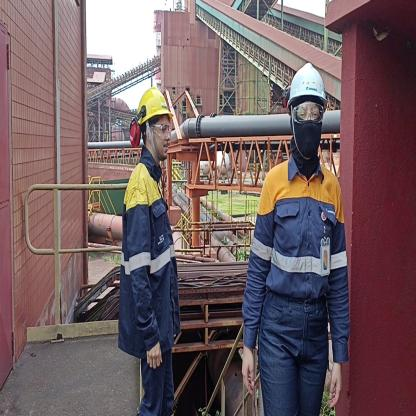Balaclava: (292, 100, 322, 174)
C_eletrica: (123, 163, 180, 361)
Capacete: (288, 58, 328, 104), (131, 84, 176, 121)
Operacional: (243, 162, 348, 358)
